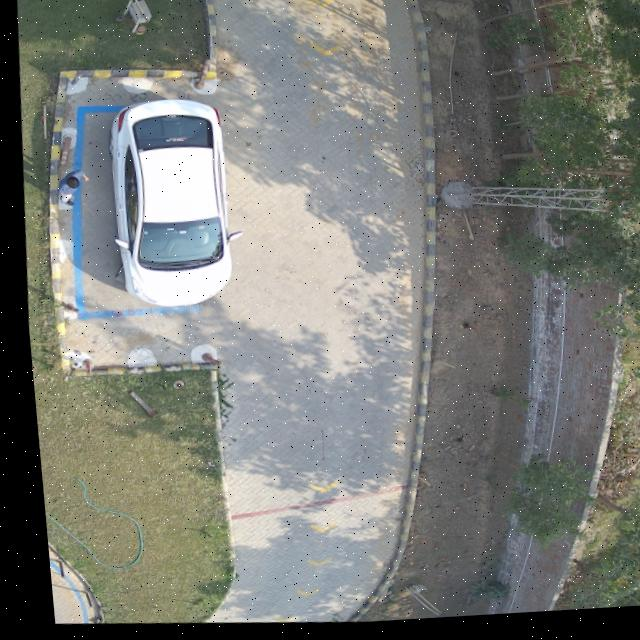car: (104, 100, 229, 306)
